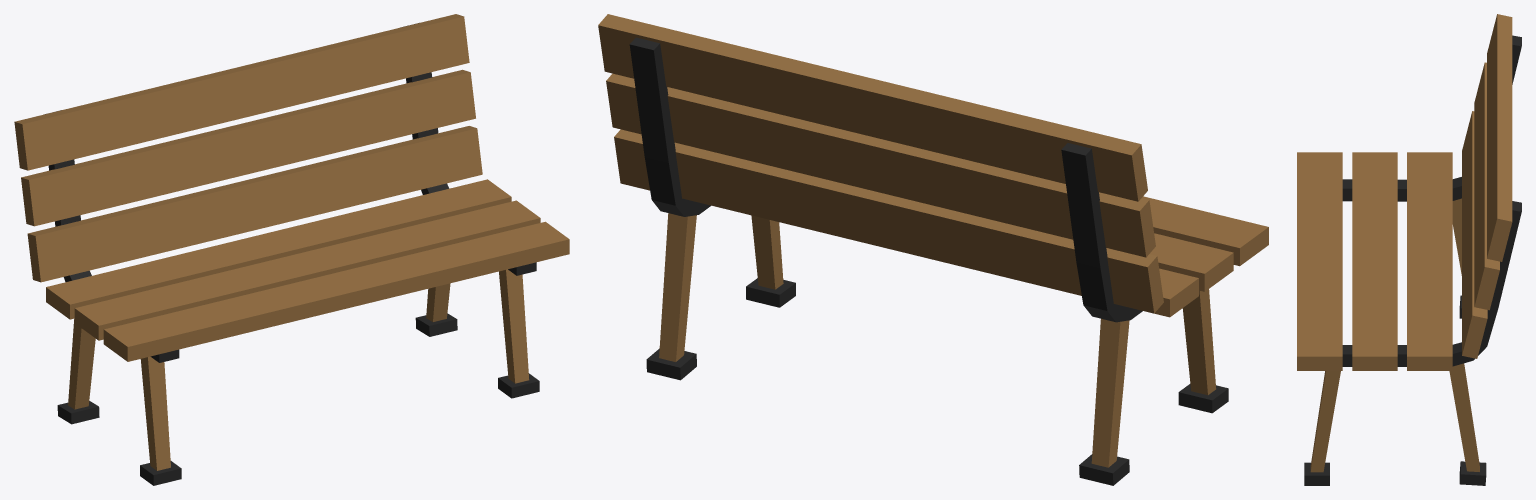
The model's file is ParkBench.fbx.
3 views of the same model, side by side, from view 1: azimuth 30°, elevation 25°; view 2: azimuth 150°, elevation 25°; view 3: azimuth 270°, elevation 25° (orthographic). The views are drawn at different scales.
Parts seen in each view (by area): view 1: Cube.005, Cube.003, Cube.004, Cube, Cube.001, Cube.002, Cube.008, Cube.009, Cube.006, Cube.007; view 2: Cube.005, Cube.003, Cube.004, Cube.008, Cube.009, Cube.007, Cube.006, Cube, Cube.001, Cube.002; view 3: Cube, Cube.001, Cube.002, Cube.005, Cube.009, Cube.003, Cube.004, Cube.007, Cube.006, Cube.008.
Part boxes in pixels (x1,y1,x2,y2): Cube.005: (14, 14, 469, 170); Cube.003: (27, 126, 482, 282); Cube.004: (21, 69, 475, 226); Cube: (103, 221, 569, 361); Cube.001: (74, 200, 540, 340); Cube.002: (46, 179, 511, 319); Cube.008: (57, 319, 181, 485); Cube.009: (415, 269, 539, 398); Cube.006: (45, 110, 179, 362); Cube.007: (400, 22, 536, 275); Cube.005: (598, 14, 1147, 201); Cube.003: (614, 129, 1163, 313); Cube.004: (606, 73, 1155, 257); Cube.008: (1079, 289, 1228, 485); Cube.009: (646, 213, 795, 380); Cube.007: (629, 37, 710, 216); Cube.006: (1061, 143, 1142, 322); Cube: (1142, 196, 1268, 266); Cube.001: (1150, 233, 1233, 291); Cube.002: (1154, 268, 1198, 317); Cube: (1297, 152, 1342, 370); Cube.001: (1352, 152, 1397, 370); Cube.002: (1407, 152, 1452, 370); Cube.005: (1487, 14, 1512, 261); Cube.009: (1304, 363, 1486, 485); Cube.003: (1462, 111, 1487, 358); Cube.004: (1474, 62, 1499, 310); Cube.007: (1342, 201, 1521, 366); Cube.006: (1342, 35, 1521, 201); Cube.008: (1452, 198, 1461, 318).
Bounding box in the file's own units: 135 × 86.31 × 62.87.
